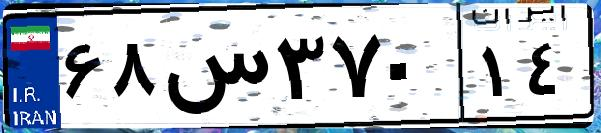0: (385, 28, 445, 110)
1: (475, 38, 525, 113)
3: (270, 28, 330, 110)
4: (525, 38, 570, 115)
6: (57, 26, 110, 100)
7: (330, 28, 385, 110)
8: (110, 28, 158, 98)
س: (158, 20, 270, 120)
